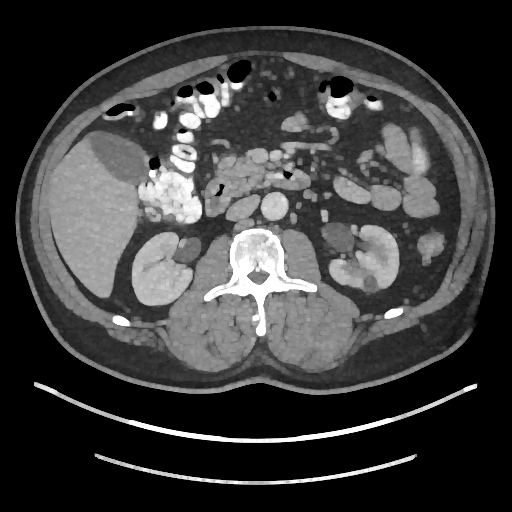Lesion: (361, 273, 379, 291)
